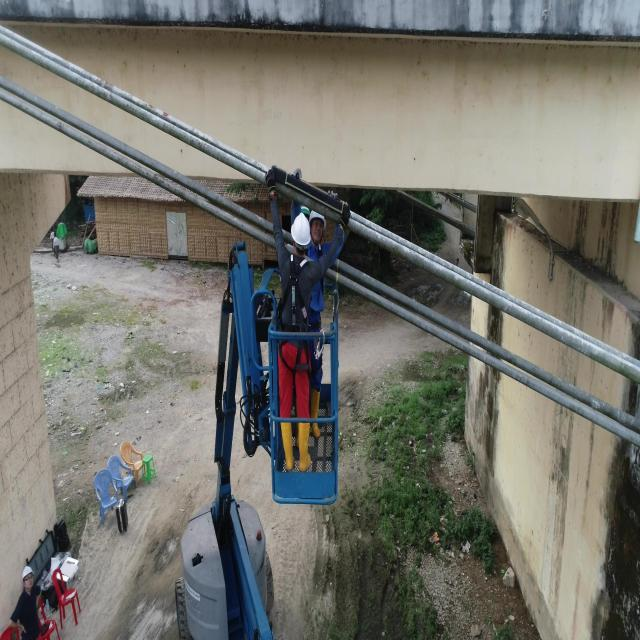corrosion: (105, 81, 113, 91), (97, 76, 103, 86), (162, 111, 168, 121), (148, 105, 155, 113)
crack: (420, 258, 423, 264)
